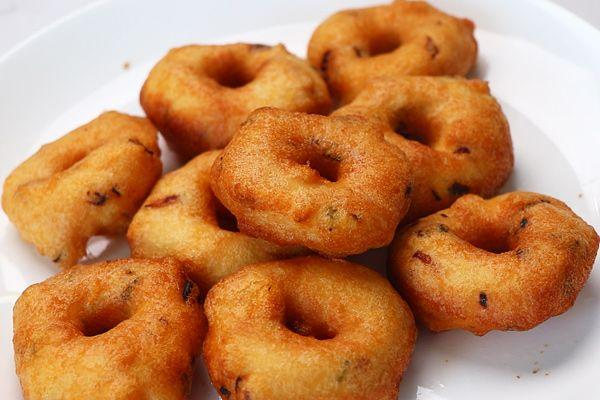medu vada: (4, 2, 600, 398)
